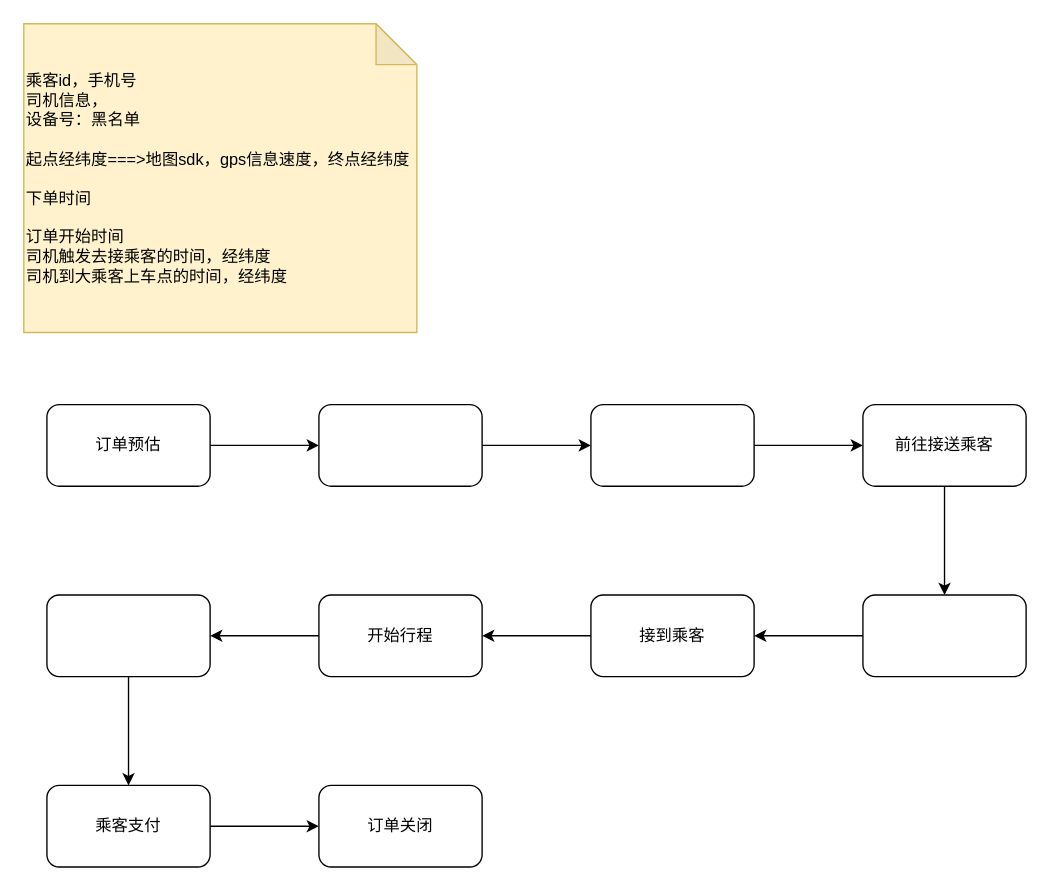
Some shapes in this 1050 by 891 pixel diagram are drawn without their labels. Each missing label, with the centre of its shape:
到达乘客上车点: point (944, 635)
司机接单: point (672, 444)
行程结束: point (128, 635)
订单开始: point (400, 444)
